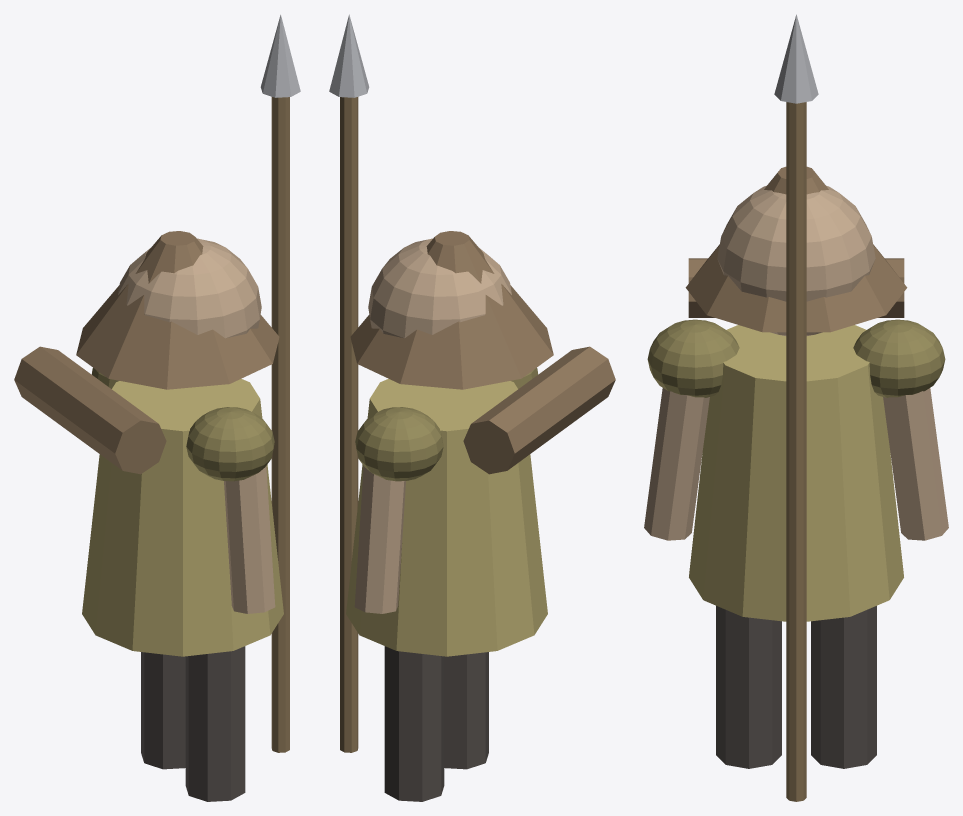
File: hero_sarn_3.glb
The picture shows the model from 3 angles, left to right: view 1: azimuth 30°, elevation 25°; view 2: azimuth 150°, elevation 25°; view 3: azimuth 270°, elevation 25°; orthographic projection. The views are drawn at different scales.
Parts seen in each view (by area): view 1: figurka; view 2: figurka; view 3: figurka.
Boxes of the visible parts, x1,y1,x2,y2 form: figurka: (14,14,300,801); figurka: (329,14,615,801); figurka: (644,14,948,801).
Bounding box in the file's own units: 0.455 × 1.37 × 0.4814.
